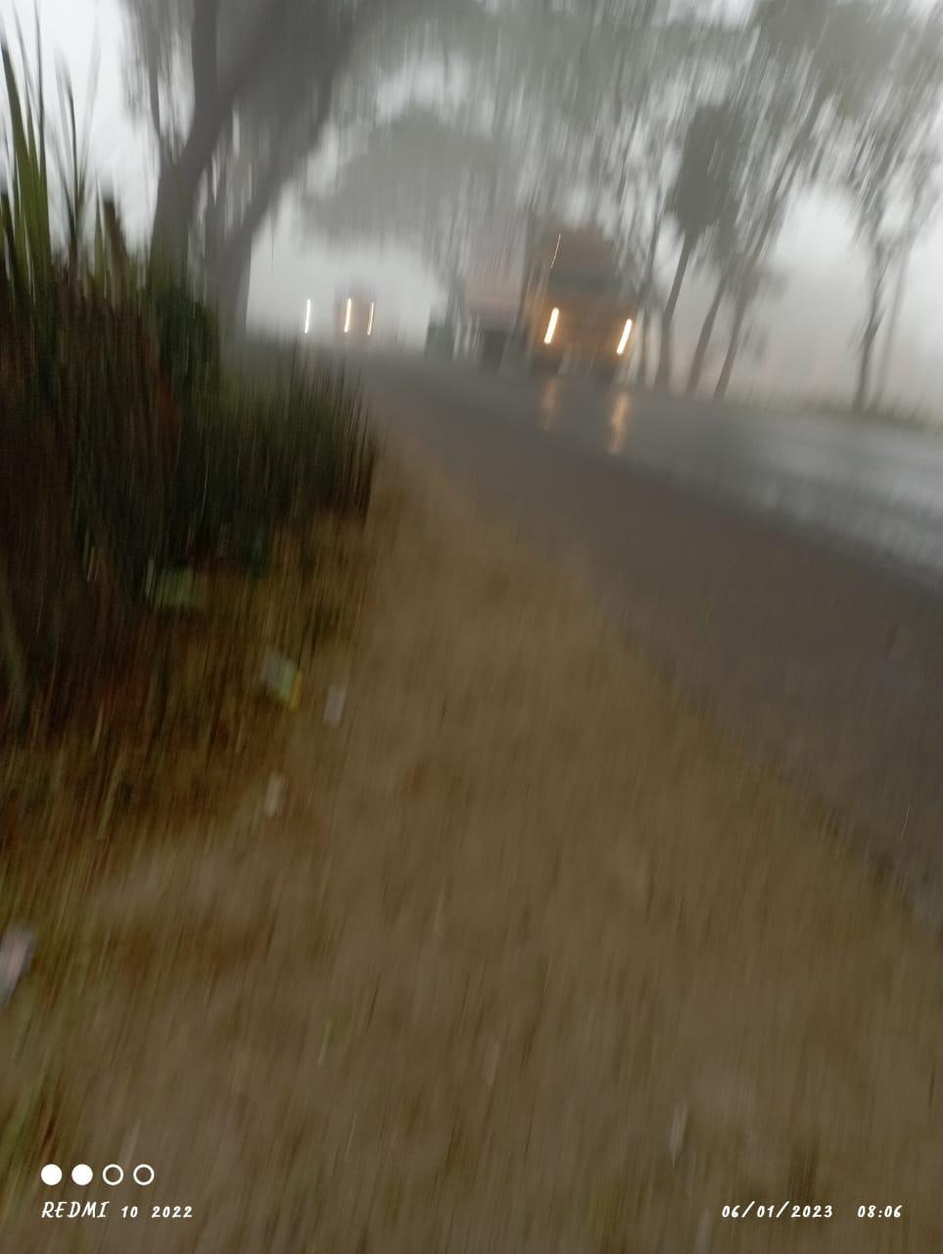Truck: (464, 204, 652, 381)
